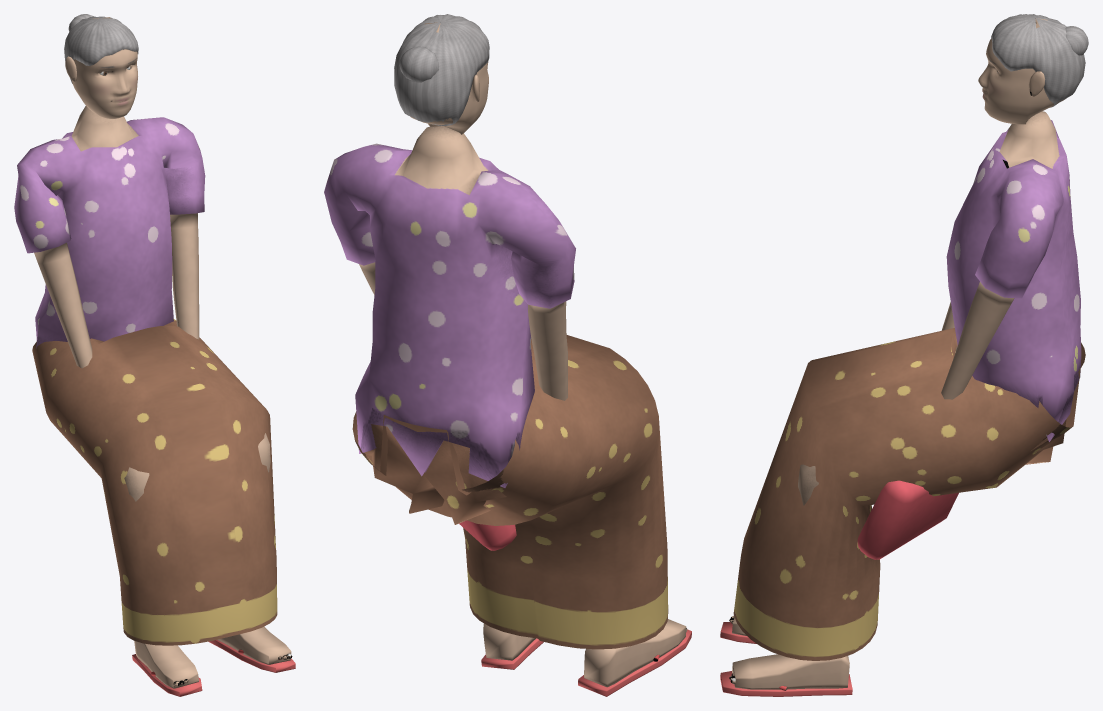
File: SEAT_PassengerB.fbx
The picture shows the model from 3 angles, left to right: view 1: azimuth 30°, elevation 25°; view 2: azimuth 150°, elevation 25°; view 3: azimuth 270°, elevation 25°; orthographic projection. The views are drawn at different scales.
Visible parts, largest first — view 1: SEAT_PassengerB; view 2: SEAT_PassengerB; view 3: SEAT_PassengerB.
Boxes of the visible parts, <box> form: SEAT_PassengerB: <box>14,14,295,696</box>; SEAT_PassengerB: <box>324,14,691,696</box>; SEAT_PassengerB: <box>720,14,1088,696</box>.
Bounding box in the file's own units: 0.4499 × 1.32 × 0.6766.
Materials: 1 (1 with a texture image).
